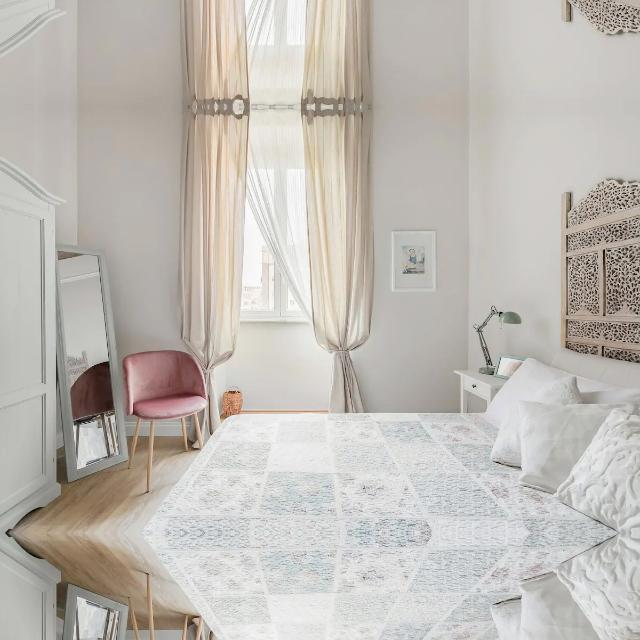pillow: (553, 405, 637, 532), (553, 533, 637, 640), (516, 402, 615, 491), (517, 575, 598, 640)
